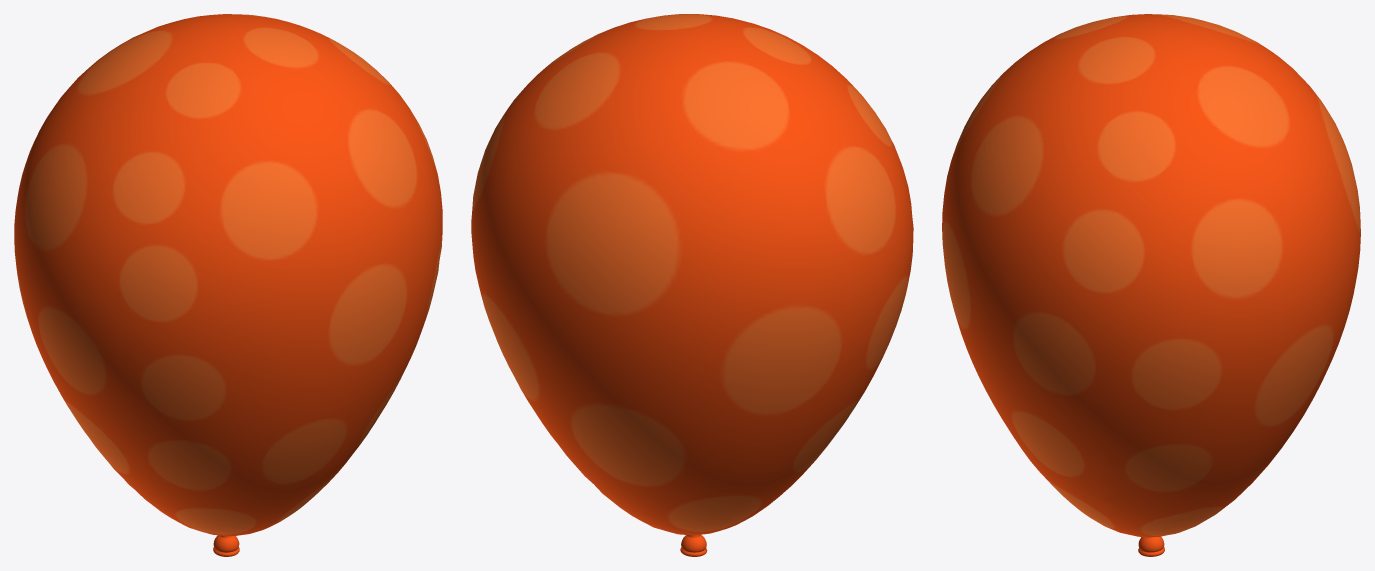
File: Balloon.fbx
The picture shows the model from 3 angles, left to right: view 1: azimuth 30°, elevation 25°; view 2: azimuth 150°, elevation 25°; view 3: azimuth 270°, elevation 25°; orthographic projection.
Parts seen in each view (by area): view 1: Balloon; view 2: Balloon; view 3: Balloon.
Boxes of the visible parts, x1=… form: Balloon: x1=14, y1=14, x2=442, y2=556; Balloon: x1=471, y1=14, x2=913, y2=556; Balloon: x1=942, y1=14, x2=1360, y2=556.
Bounding box in the file's own units: 145 × 188 × 137.
1 material, 1 textured.
